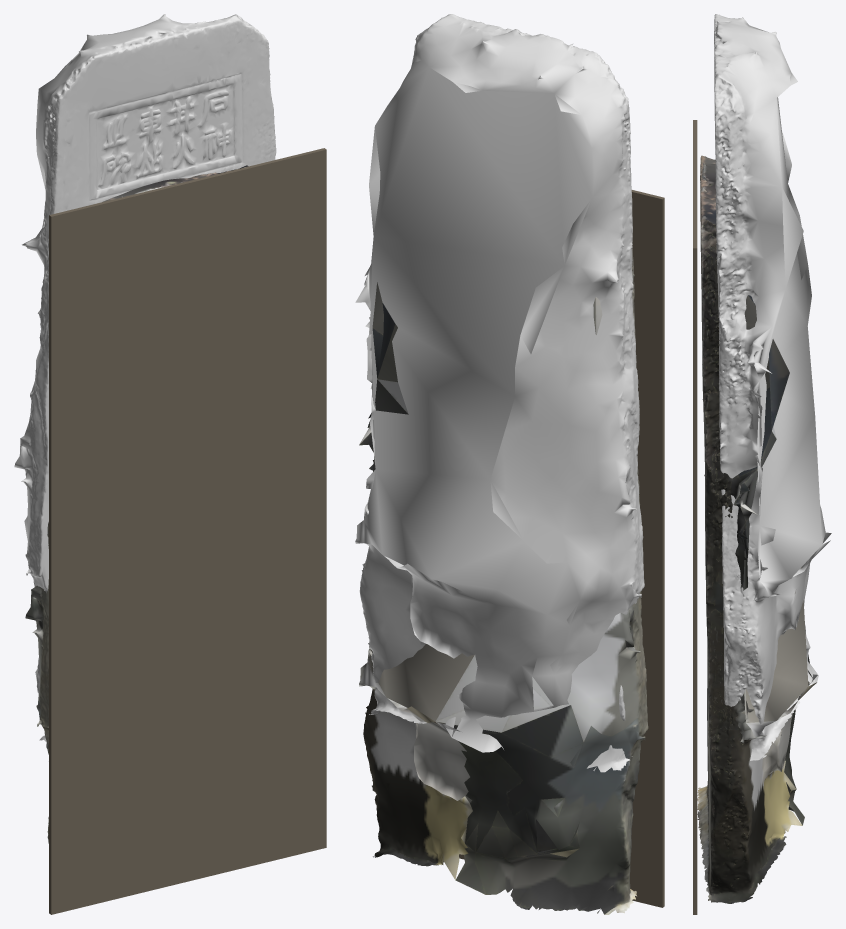
Rendered from SacredRelic_Stele.fbx.
3 renders of one model, left to right at view 1: azimuth 30°, elevation 25°; view 2: azimuth 150°, elevation 25°; view 3: azimuth 270°, elevation 25°, orthographic. The views are drawn at different scales.
Parts seen in each view (by area): view 1: Object_6, Shell_Piece_030, Shell_Piece_021, Shell_Piece_026, Shell_Piece_035, Shell_Piece_027, Shell_Piece_033, Shell_Piece_028, Shell_Piece_036, Shell_Piece_029, Shell_Piece_018, Shell_Piece_017 (+30 smaller); view 2: Object_9, Relic_Core, Object_6, Object_10, Object_11, Shell_Piece_034, Shell_Piece_024, Shell_Piece_036, Object_8, Shell_Piece_016, Shell_Piece_023, Shell_Piece_011 (+4 smaller); view 3: Relic_Core, Object_9, Object_6, Object_11, Shell_Piece_029, Shell_Piece_025, Shell_Piece_014, Object_10, Shell_Piece_028, Shell_Piece_003, Shell_Piece_019, Shell_Piece_032 (+1 smaller).
Boxes of the visible parts, bbox=[...] form: Object_6: bbox=[36, 14, 276, 218]; Shell_Piece_030: bbox=[182, 728, 323, 847]; Shell_Piece_021: bbox=[155, 655, 270, 780]; Shell_Piece_026: bbox=[80, 701, 191, 818]; Shell_Piece_035: bbox=[49, 809, 177, 914]; Shell_Piece_027: bbox=[126, 233, 237, 346]; Shell_Piece_033: bbox=[109, 172, 230, 266]; Shell_Piece_028: bbox=[236, 213, 326, 322]; Shell_Piece_036: bbox=[49, 214, 142, 328]; Shell_Piece_029: bbox=[226, 148, 326, 241]; Shell_Piece_018: bbox=[188, 287, 283, 390]; Shell_Piece_017: bbox=[78, 617, 171, 716]; Object_9: bbox=[355, 185, 643, 758]; Relic_Core: bbox=[359, 249, 648, 914]; Object_6: bbox=[369, 14, 632, 265]; Object_10: bbox=[433, 562, 644, 772]; Object_11: bbox=[355, 520, 466, 737]; Shell_Piece_034: bbox=[631, 761, 664, 890]; Shell_Piece_024: bbox=[634, 302, 664, 403]; Shell_Piece_036: bbox=[632, 224, 664, 310]; Object_8: bbox=[471, 652, 625, 771]; Shell_Piece_016: bbox=[641, 587, 664, 674]; Shell_Piece_023: bbox=[640, 670, 664, 764]; Shell_Piece_011: bbox=[637, 437, 664, 514]; Relic_Core: bbox=[697, 155, 816, 903]; Object_9: bbox=[716, 165, 830, 589]; Object_6: bbox=[714, 14, 803, 288]; Object_11: bbox=[723, 546, 820, 760]; Shell_Piece_029: bbox=[693, 202, 697, 309]; Shell_Piece_025: bbox=[693, 740, 697, 844]; Shell_Piece_014: bbox=[693, 392, 697, 493]; Object_10: bbox=[801, 511, 831, 683]; Shell_Piece_028: bbox=[693, 309, 697, 392]; Shell_Piece_003: bbox=[693, 527, 697, 603]; Shell_Piece_019: bbox=[693, 667, 697, 739]; Shell_Piece_032: bbox=[693, 844, 697, 914].
Bounding box in the file's own units: 673 × 1957 × 306.
